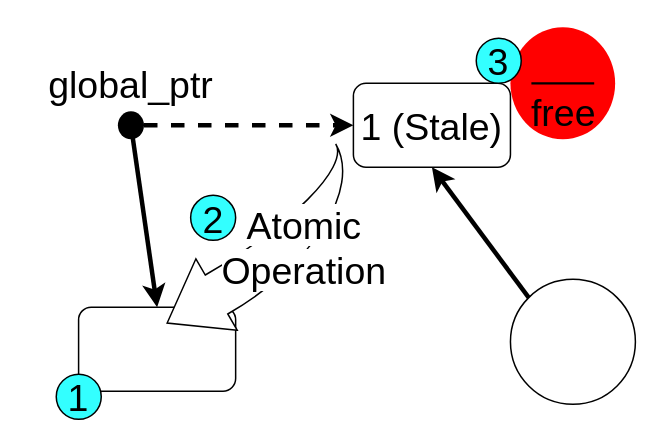
This 662x446 diagram has some shape labels left out. Each missing label, with the centre of its shape:
"2 (New)" goes at point (156, 348).
"Reader" goes at point (572, 341).
